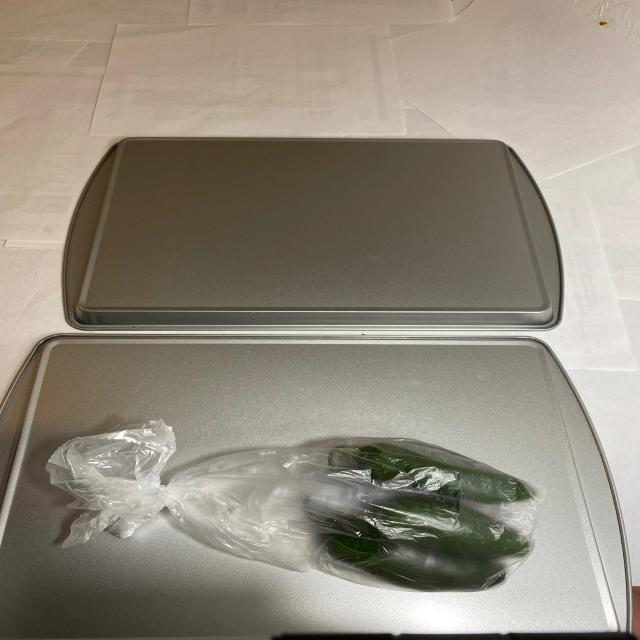chilli: (292, 440, 549, 591)
